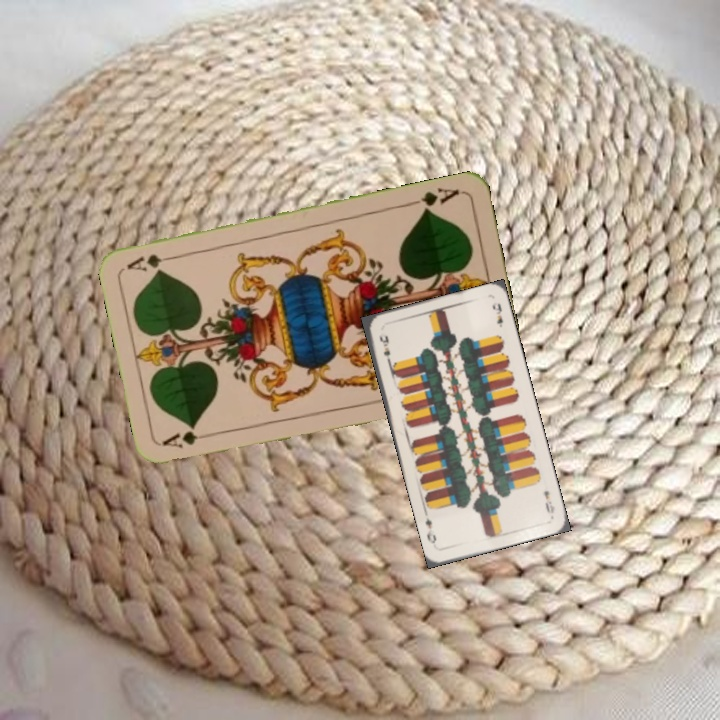E9: (540, 486, 557, 516), (375, 332, 393, 359)
GA: (405, 184, 462, 216), (159, 427, 218, 451)
